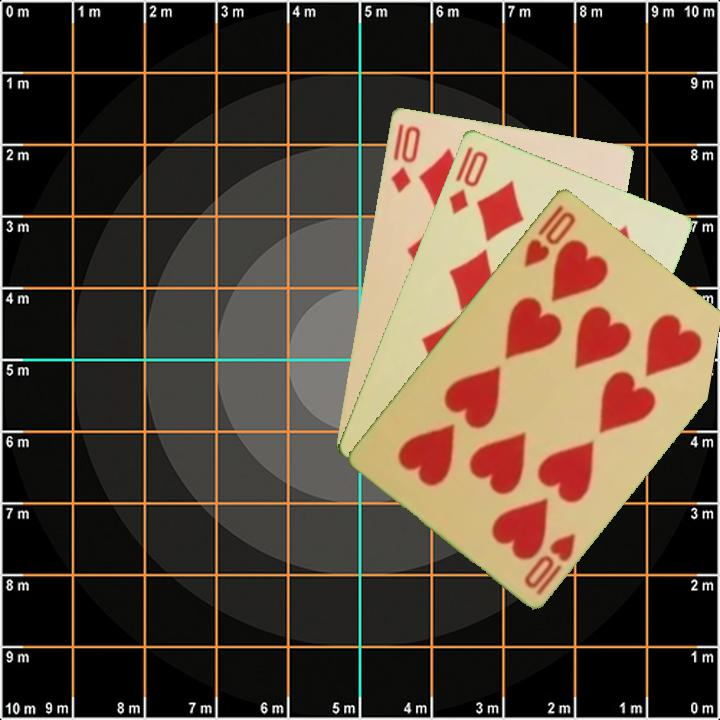10d: (444, 142, 491, 217), (387, 121, 423, 196)
10h: (520, 201, 579, 270), (520, 529, 579, 598)
